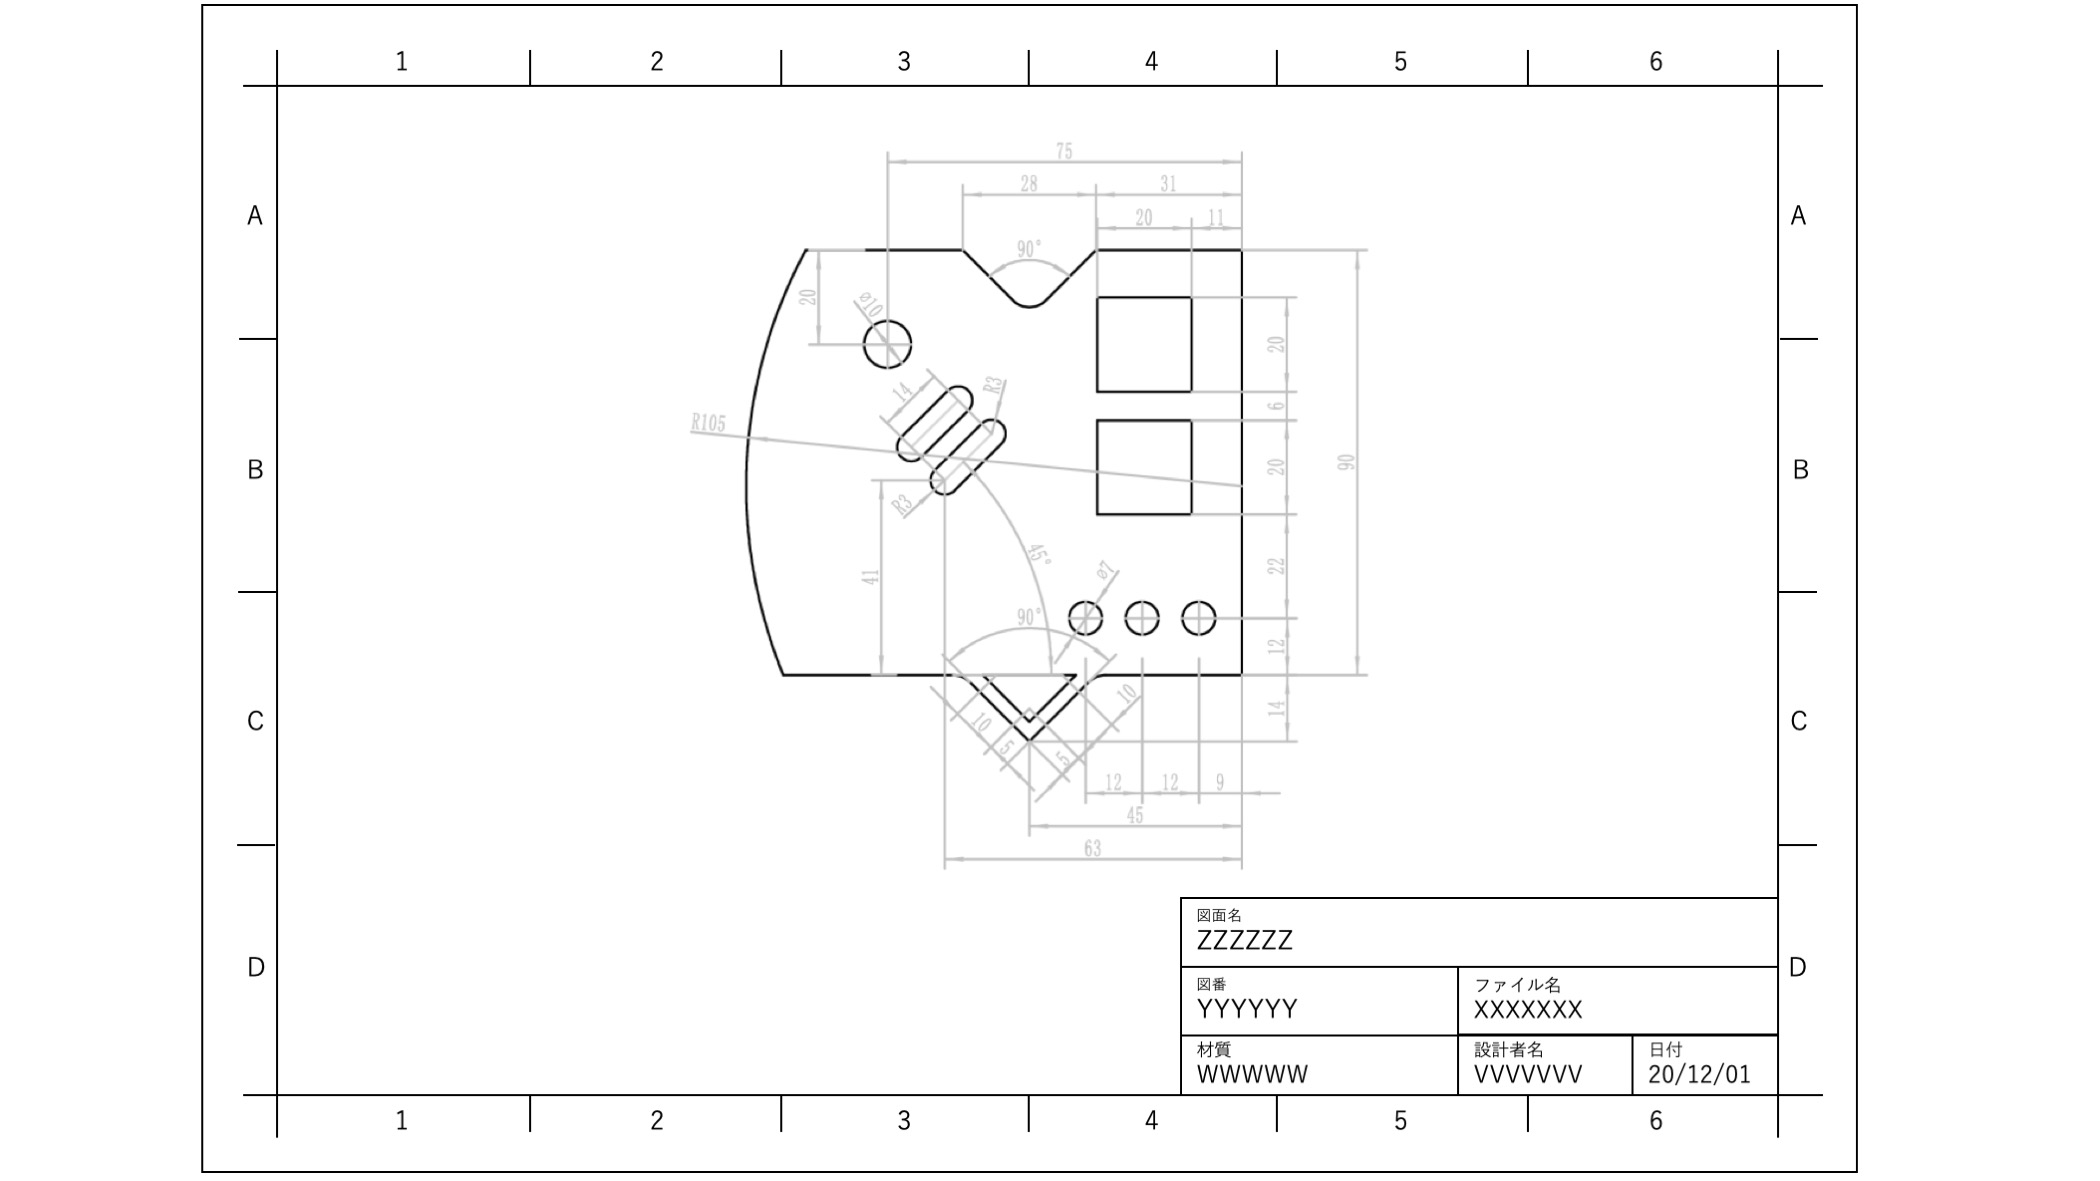circle: (857, 309, 914, 378), (1057, 593, 1106, 645), (1119, 591, 1165, 640), (1177, 598, 1226, 640)
rectangle: (1085, 405, 1204, 521), (1090, 287, 1199, 399)
round_rectangle: (930, 407, 1011, 502), (891, 378, 978, 464)
triangle: (984, 660, 1079, 722)
